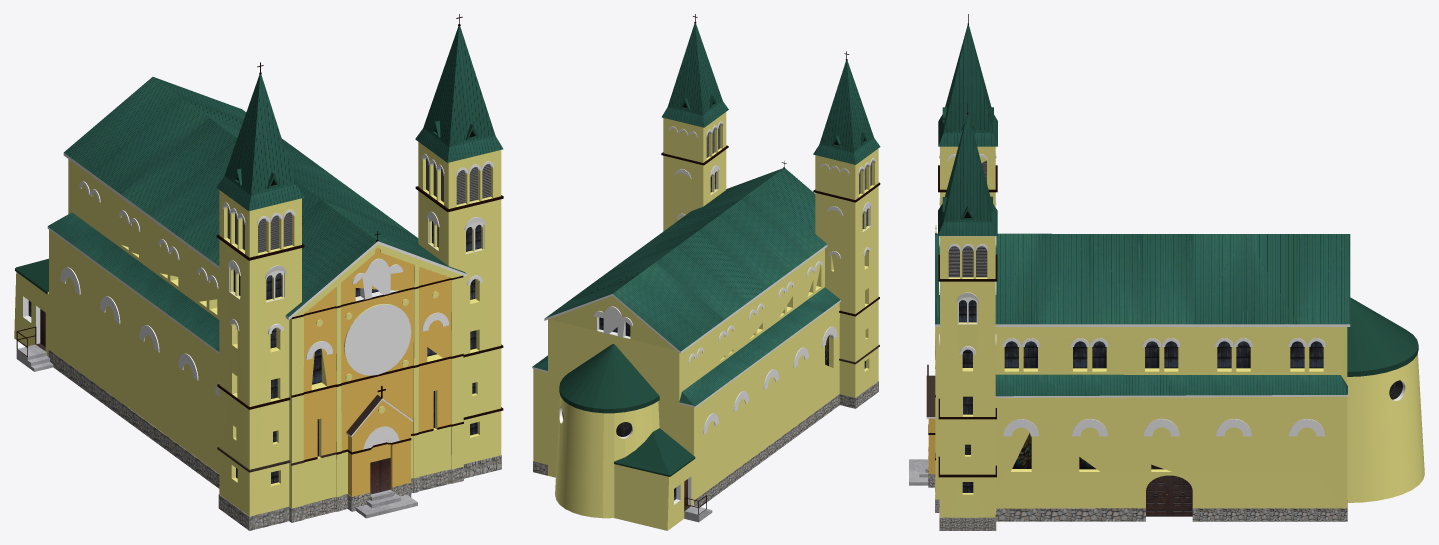
File: crkvaSvetogMihovila.fbx
The picture shows the model from 3 angles, left to right: view 1: azimuth 30°, elevation 25°; view 2: azimuth 150°, elevation 25°; view 3: azimuth 270°, elevation 25°; orthographic projection. The views are drawn at different scales.
Parts seen in each view (by area): view 1: crkva; view 2: crkva; view 3: crkva.
Part boxes in pixels (x1=…): crkva: x1=14, y1=14, x2=503, y2=530; crkva: x1=532, y1=14, x2=880, y2=530; crkva: x1=909, y1=14, x2=1424, y2=530.
Size of the model in its own units: 8087 by 13652 by 15363.
